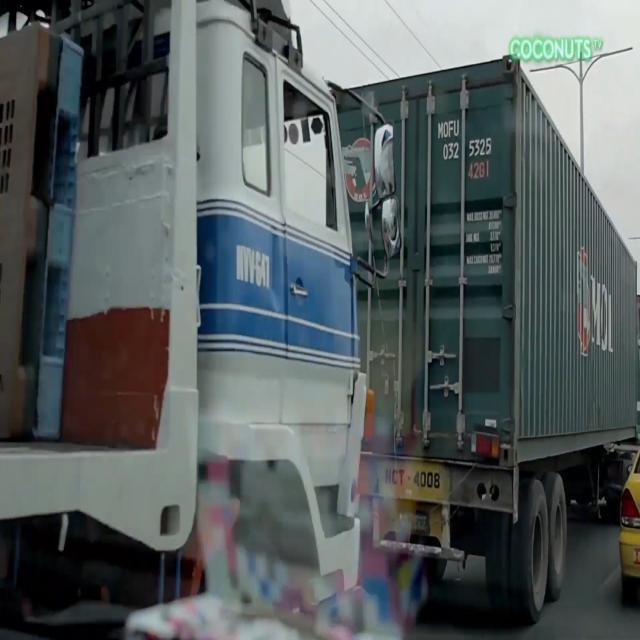truck: (0, 0, 403, 615), (333, 49, 640, 622)
